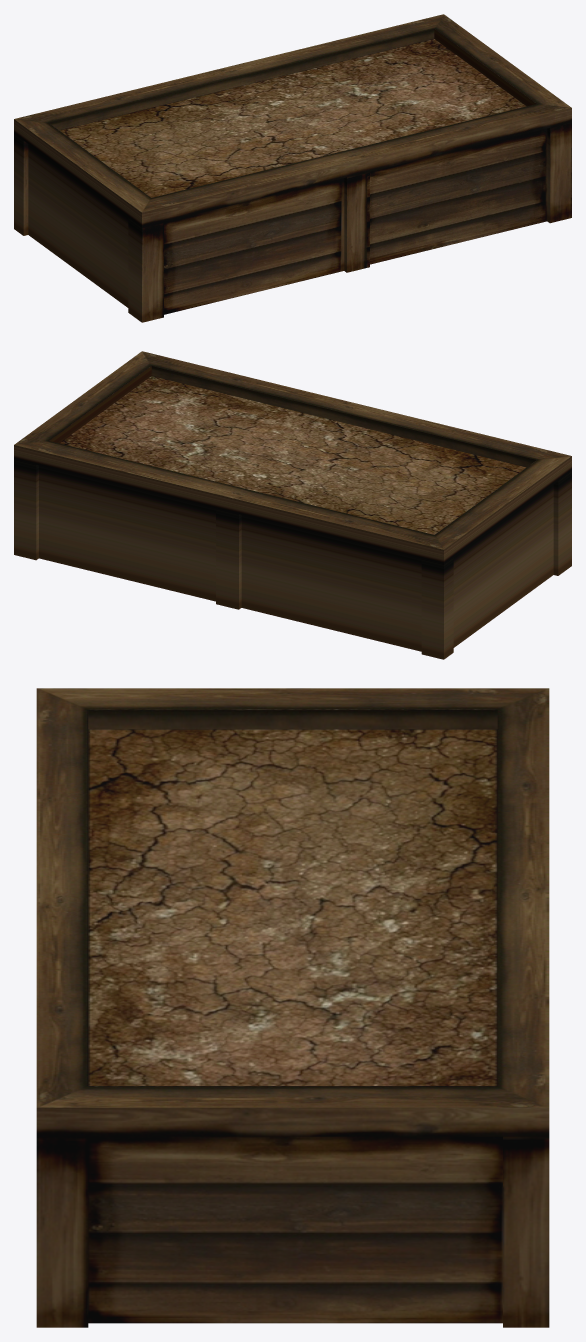
File: bed.glb
3 renders of one model, top to bottom at view 1: azimuth 30°, elevation 25°; view 2: azimuth 150°, elevation 25°; view 3: azimuth 270°, elevation 25°, orthographic. The views are drawn at different scales.
Visible parts, largest first — view 1: GardenBed; view 2: GardenBed; view 3: GardenBed.
Boxes of the visible parts, x1,y1,x2,y2 form: GardenBed: (14, 14, 571, 322); GardenBed: (14, 351, 571, 659); GardenBed: (36, 688, 549, 1327).
Bounding box in the file's own units: 93 × 22.74 × 48.
Materials: 1 (1 with a texture image).
